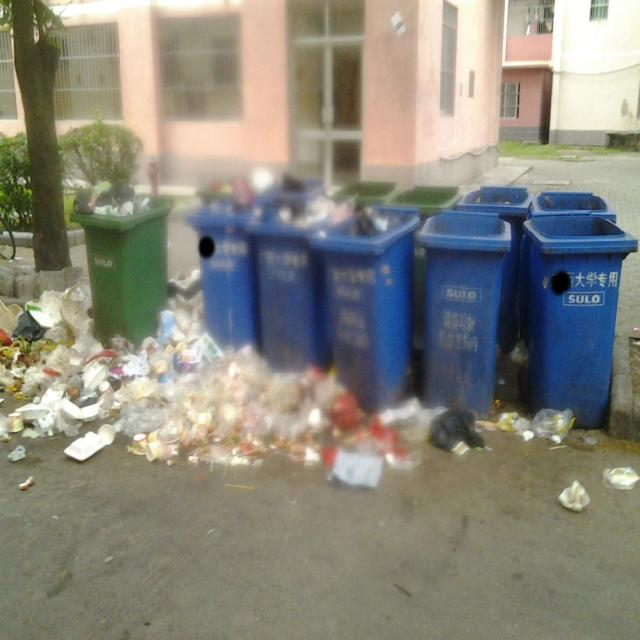garbage: (0, 270, 573, 489)
garbage_bin: (520, 214, 638, 428), (419, 208, 511, 418)
overflow: (309, 202, 420, 410), (69, 178, 174, 348), (244, 196, 326, 370), (184, 194, 257, 348)
